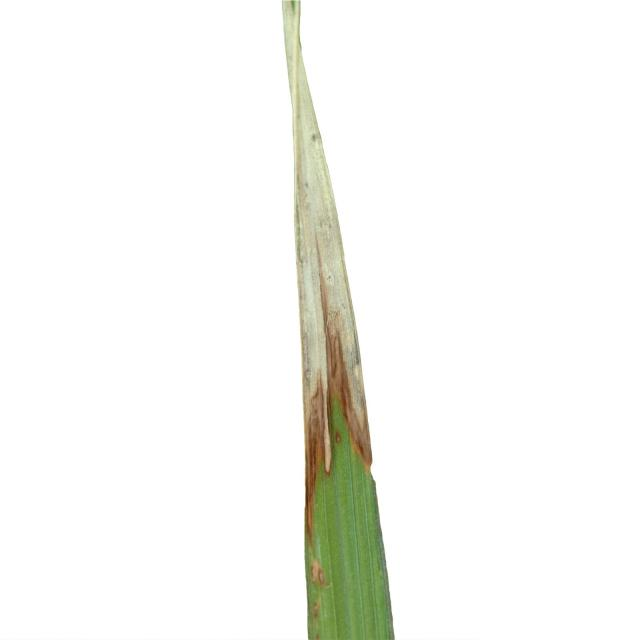Leaf scald: (194, 0, 510, 640)
